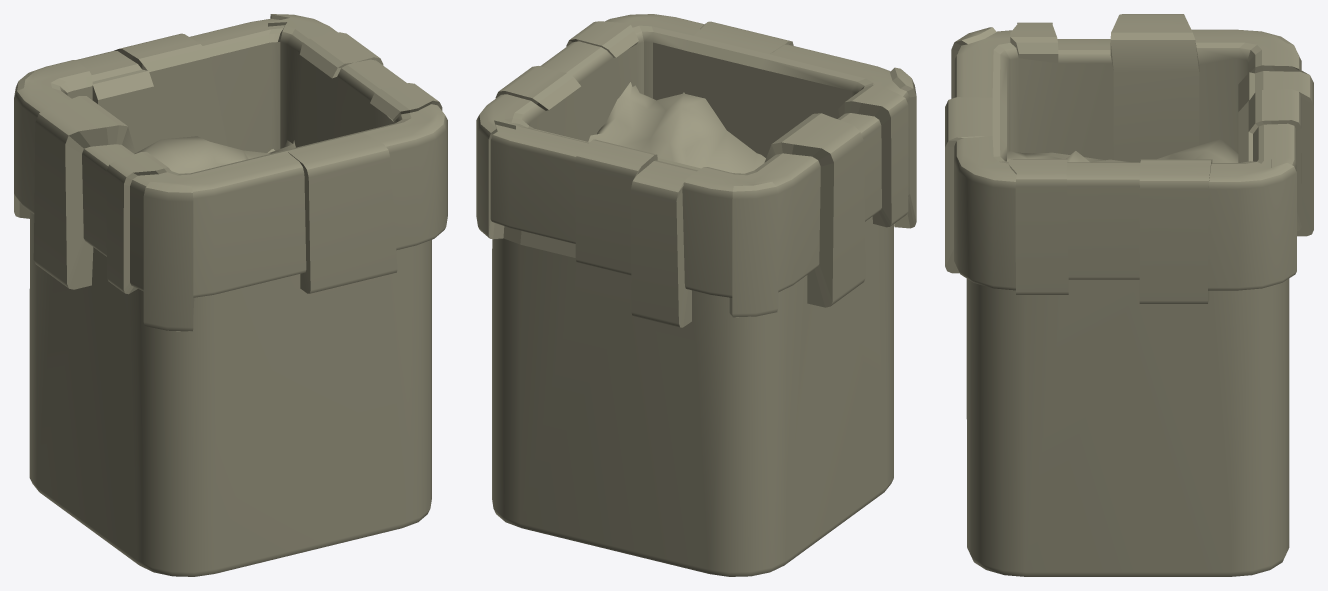
File: bin Full V1.fbx
The picture shows the model from 3 angles, left to right: view 1: azimuth 30°, elevation 25°; view 2: azimuth 150°, elevation 25°; view 3: azimuth 270°, elevation 25°; orthographic projection. The views are drawn at different scales.
Visible parts, largest first — view 1: pCube1, pPlane1; view 2: pCube1, pPlane1; view 3: pCube1, pPlane1.
Part boxes in pixels (box(x1,y1,x2,y2)): pCube1: box(14, 14, 447, 576); pPlane1: box(135, 136, 295, 173); pCube1: box(476, 14, 916, 576); pPlane1: box(588, 82, 765, 173); pCube1: box(945, 14, 1313, 576); pPlane1: box(1007, 139, 1238, 162).
Bounding box in the file's own units: 3.28 × 3.91 × 3.14.
